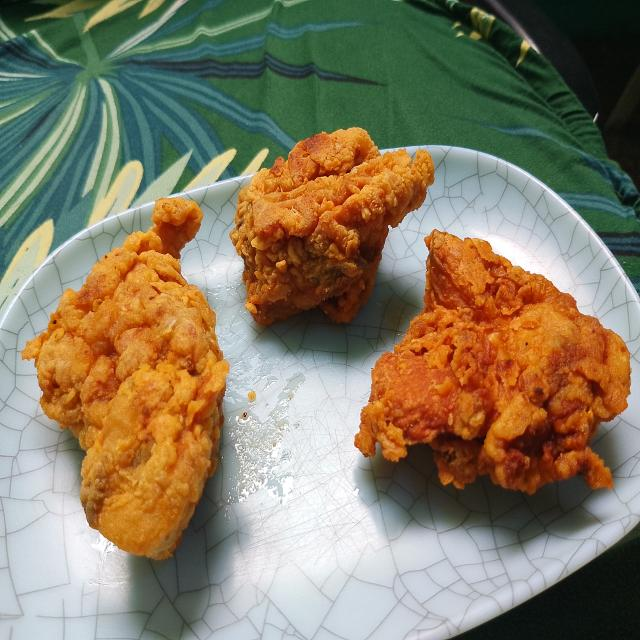Chicken -Fried Chicken-: (348, 213, 634, 537), (19, 194, 233, 571), (230, 114, 438, 344)
